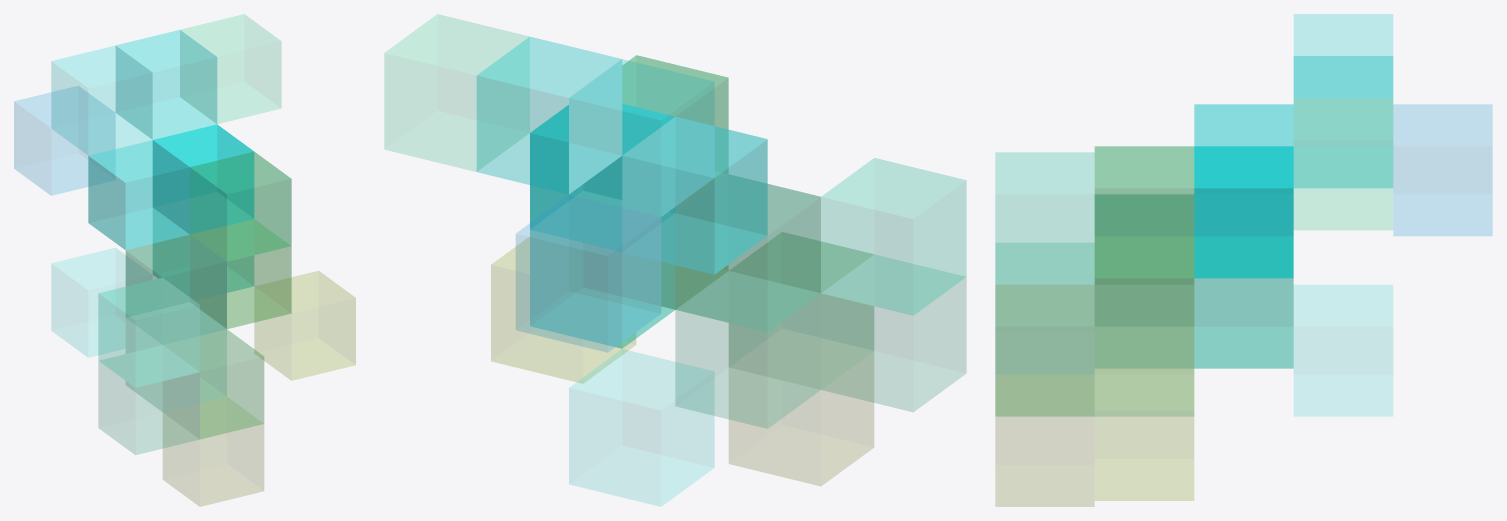
Rendered from iter_50.obj.
The picture shows the model from 3 angles, left to right: view 1: azimuth 30°, elevation 25°; view 2: azimuth 150°, elevation 25°; view 3: azimuth 270°, elevation 25°; orthographic projection. The views are drawn at different scales.
Visible parts, largest first — view 1: iter_50; view 2: iter_50; view 3: iter_50.
Boxes of the visible parts, left/top/right/bottom form: iter_50: left=14, top=14, right=355, bottom=506; iter_50: left=385, top=14, right=966, bottom=506; iter_50: left=995, top=14, right=1492, bottom=506.
Bounding box in the file's own units: 0.4 × 0.5 × 0.5.
